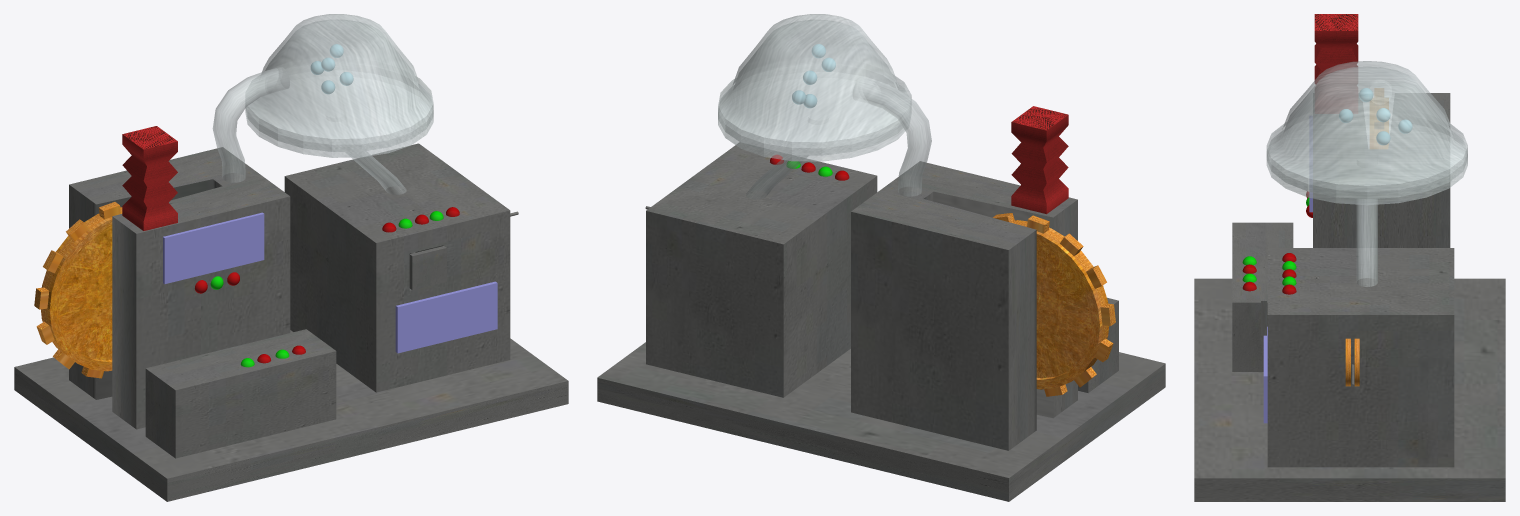
The model's file is CrayMachine.fbx.
3 renders of one model, left to right at view 1: azimuth 30°, elevation 25°; view 2: azimuth 150°, elevation 25°; view 3: azimuth 270°, elevation 25°, orthographic. The views are drawn at different scales.
Visible parts, largest first — view 1: BoxRight, BoxLeft, platform, polySurface1, smallBox, Gear1, screen, screen1, accordion, tube, pCube7, tube1; view 2: BoxLeft, BoxRight, platform, polySurface1, Gear1, accordion, tube, smallBox, tube1; view 3: BoxRight, platform, polySurface1, BoxLeft, smallBox, accordion, tube1, Gear1, screen.
Boxes of the visible parts, x1,y1,x2,y2 form: BoxRight: (284, 143, 510, 392); BoxLeft: (69, 147, 290, 429); platform: (14, 330, 568, 501); polySurface1: (245, 14, 433, 157); smallBox: (145, 329, 336, 458); Gear1: (34, 202, 122, 378); screen: (395, 281, 497, 353); screen1: (163, 212, 264, 284); accordion: (122, 126, 177, 230); tube: (212, 67, 289, 182); pCube7: (409, 246, 446, 290); tube1: (345, 151, 406, 194); BoxLeft: (851, 161, 1077, 450); BoxRight: (646, 142, 877, 397); platform: (597, 342, 1165, 501); polySurface1: (718, 14, 911, 161); Gear1: (993, 213, 1115, 396); accordion: (1011, 106, 1068, 214); tube: (853, 78, 931, 196); smallBox: (1078, 297, 1118, 392); tube1: (746, 155, 807, 199); BoxRight: (1267, 248, 1454, 467); platform: (1194, 278, 1505, 501); polySurface1: (1266, 61, 1467, 205); BoxLeft: (1313, 93, 1450, 247); smallBox: (1232, 222, 1293, 371); accordion: (1314, 14, 1358, 113); tube1: (1356, 199, 1377, 286); Gear1: (1370, 88, 1388, 148); screen: (1263, 326, 1267, 423).
Bounding box in the file's own units: 11.3 × 7.99 × 6.39.
